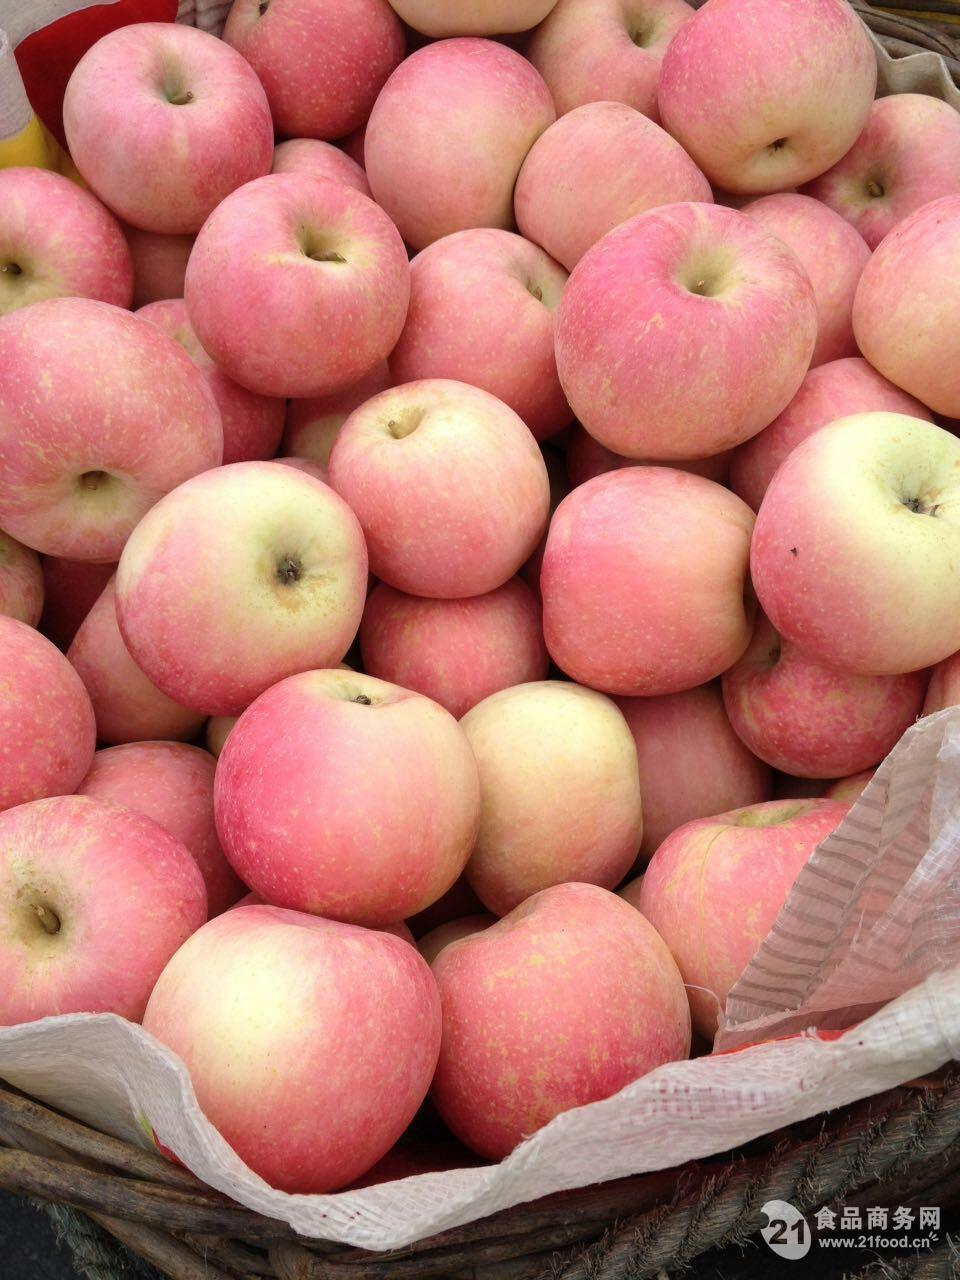apple: (137, 901, 439, 1199), (425, 879, 693, 1156), (214, 672, 480, 934), (555, 199, 817, 461), (1, 297, 227, 566), (115, 462, 365, 703), (745, 413, 960, 673), (537, 462, 759, 701), (181, 173, 412, 401), (638, 788, 853, 1028), (331, 378, 552, 603), (1, 795, 207, 1025), (63, 20, 274, 232), (462, 679, 644, 909), (658, 1, 876, 194), (361, 35, 557, 232), (850, 194, 959, 419), (536, 1, 692, 124), (1, 616, 95, 809)
